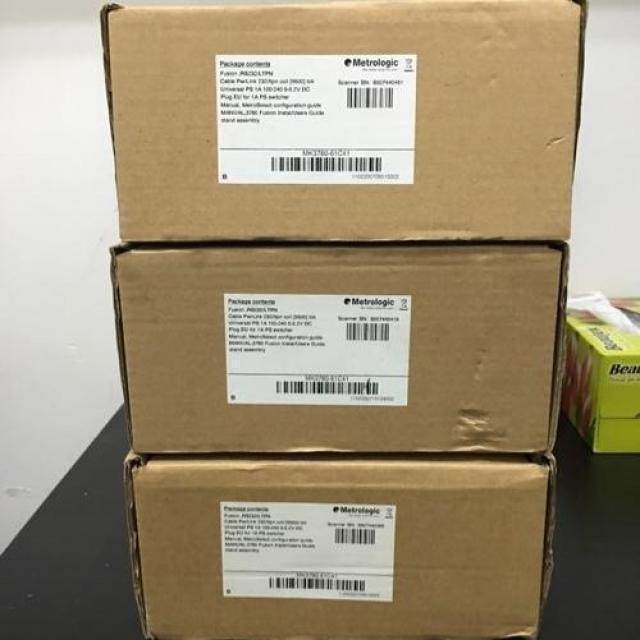box: (99, 1, 587, 242), (110, 240, 571, 453), (124, 449, 557, 639)
